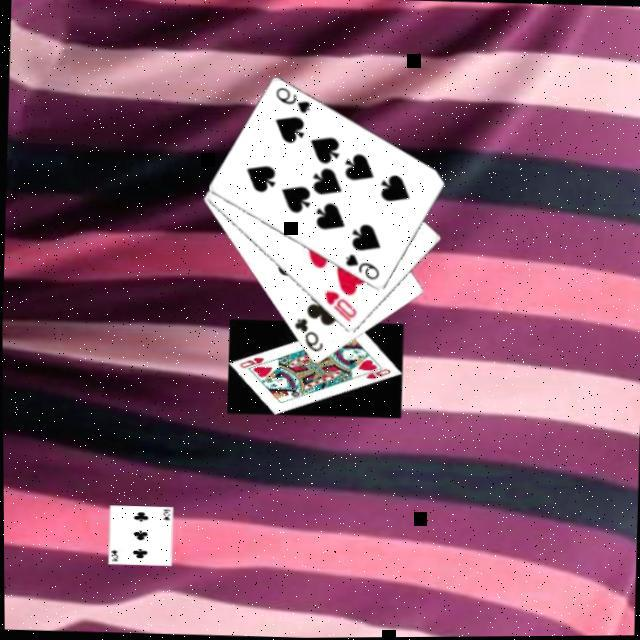10H: (319, 290, 358, 326)
6C: (289, 317, 325, 356)
9S: (270, 86, 312, 119), (340, 252, 380, 286)
